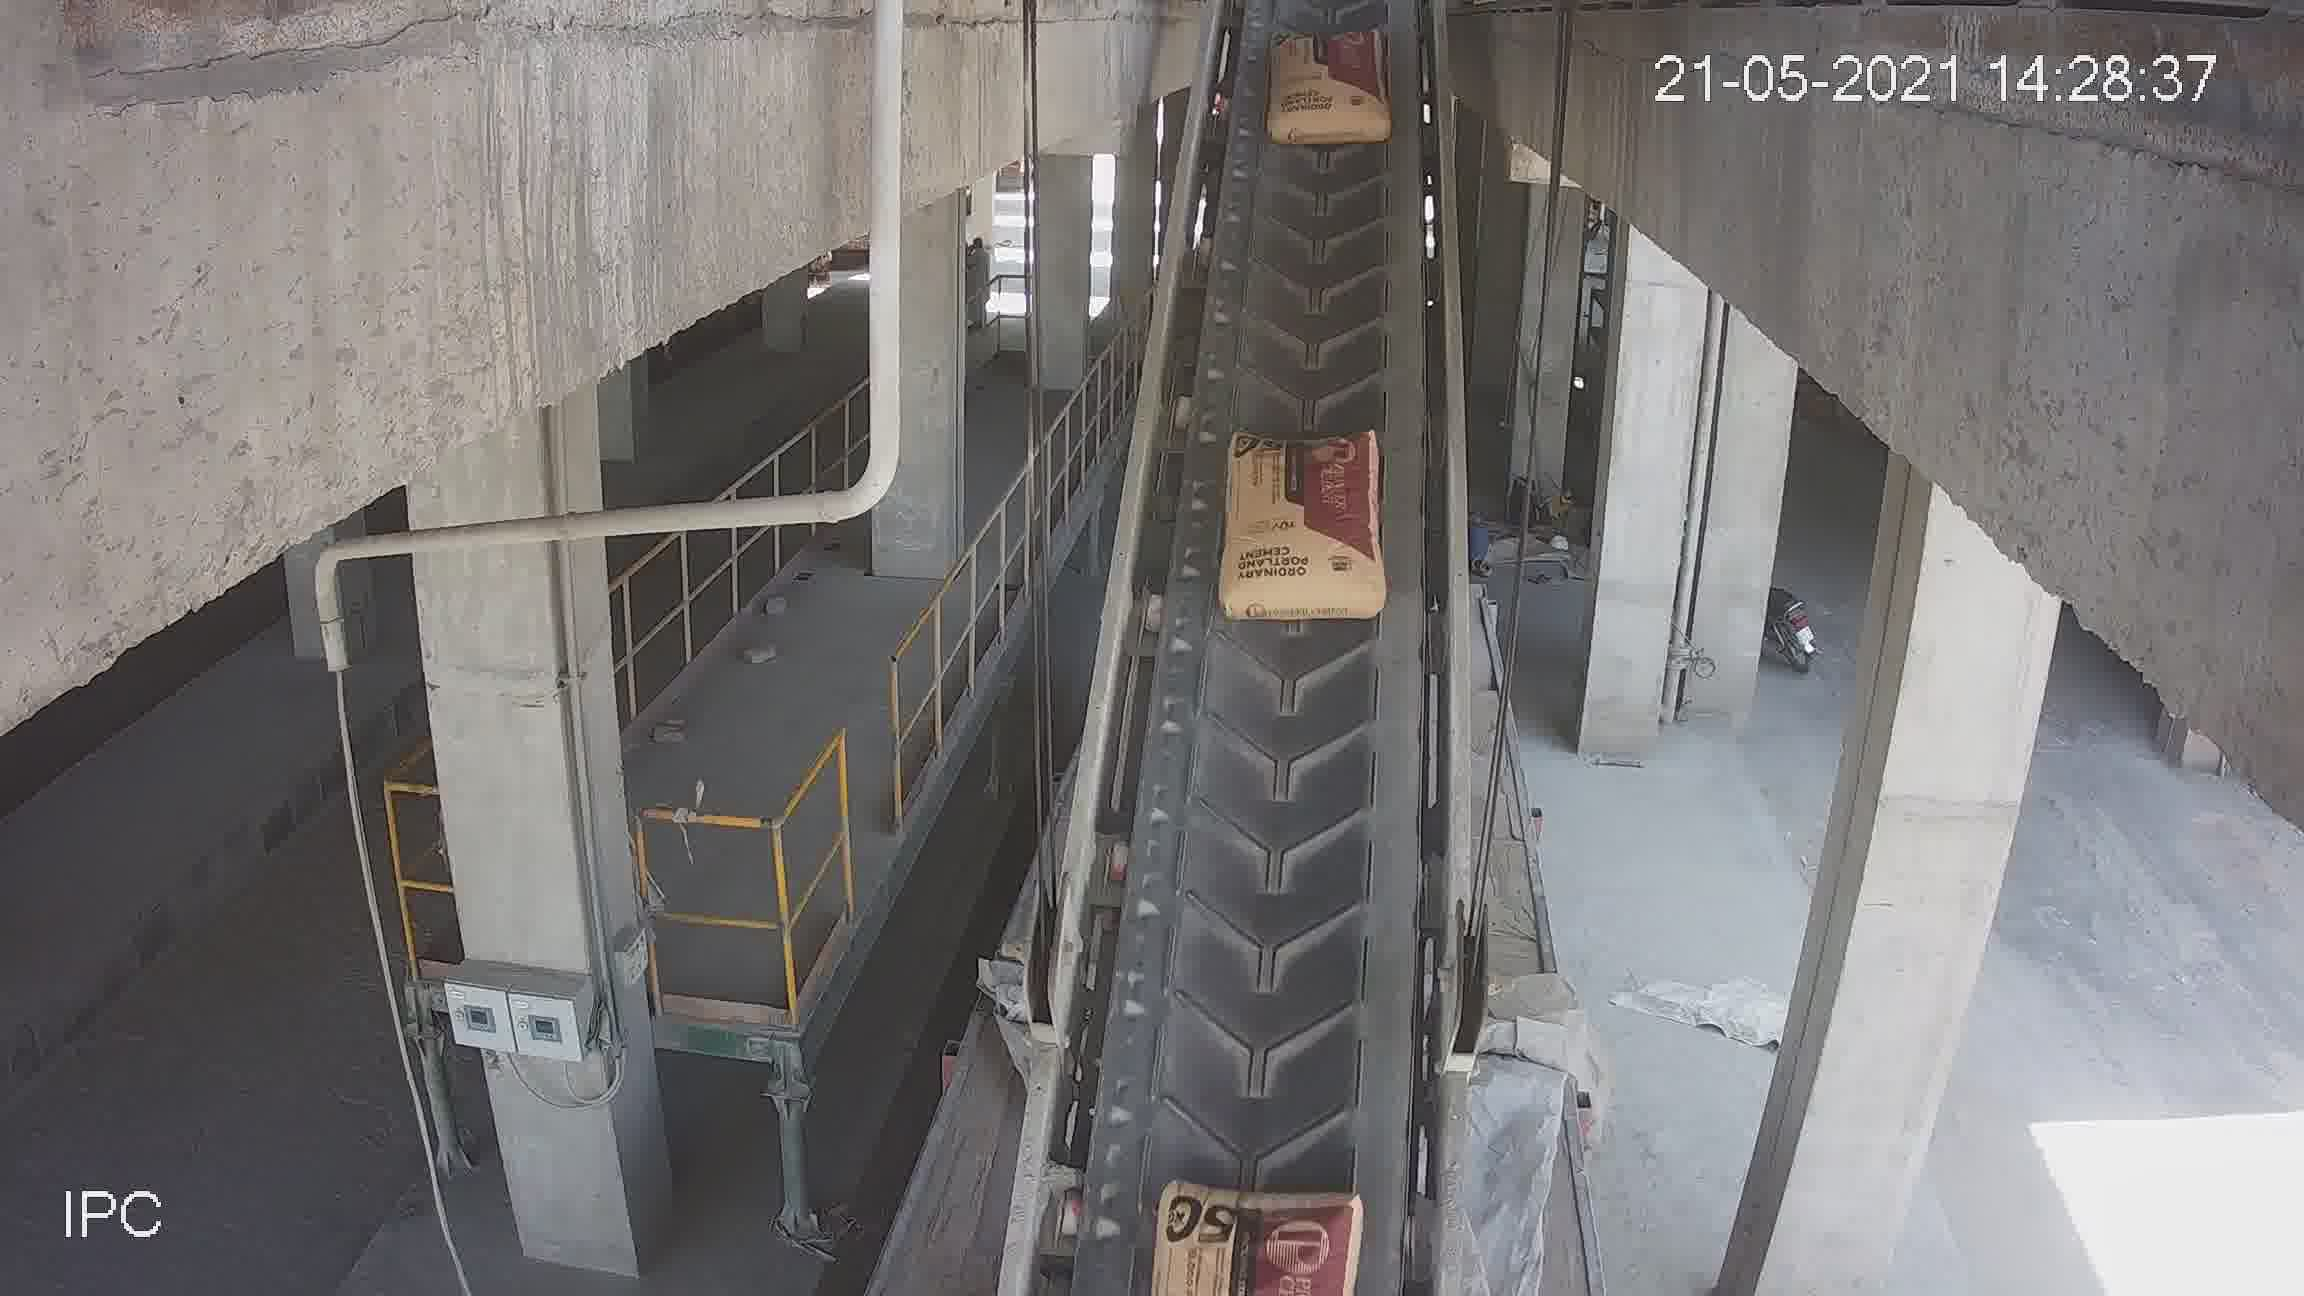bag: (1222, 441, 1388, 628), (1152, 1177, 1358, 1283), (1282, 40, 1381, 131)
belt: (1036, 21, 1472, 1272)
